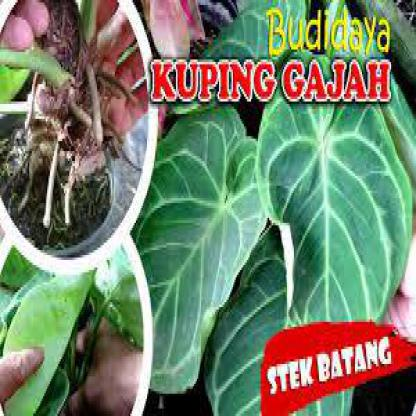Melati: (21, 33, 201, 183), (245, 292, 369, 366)
